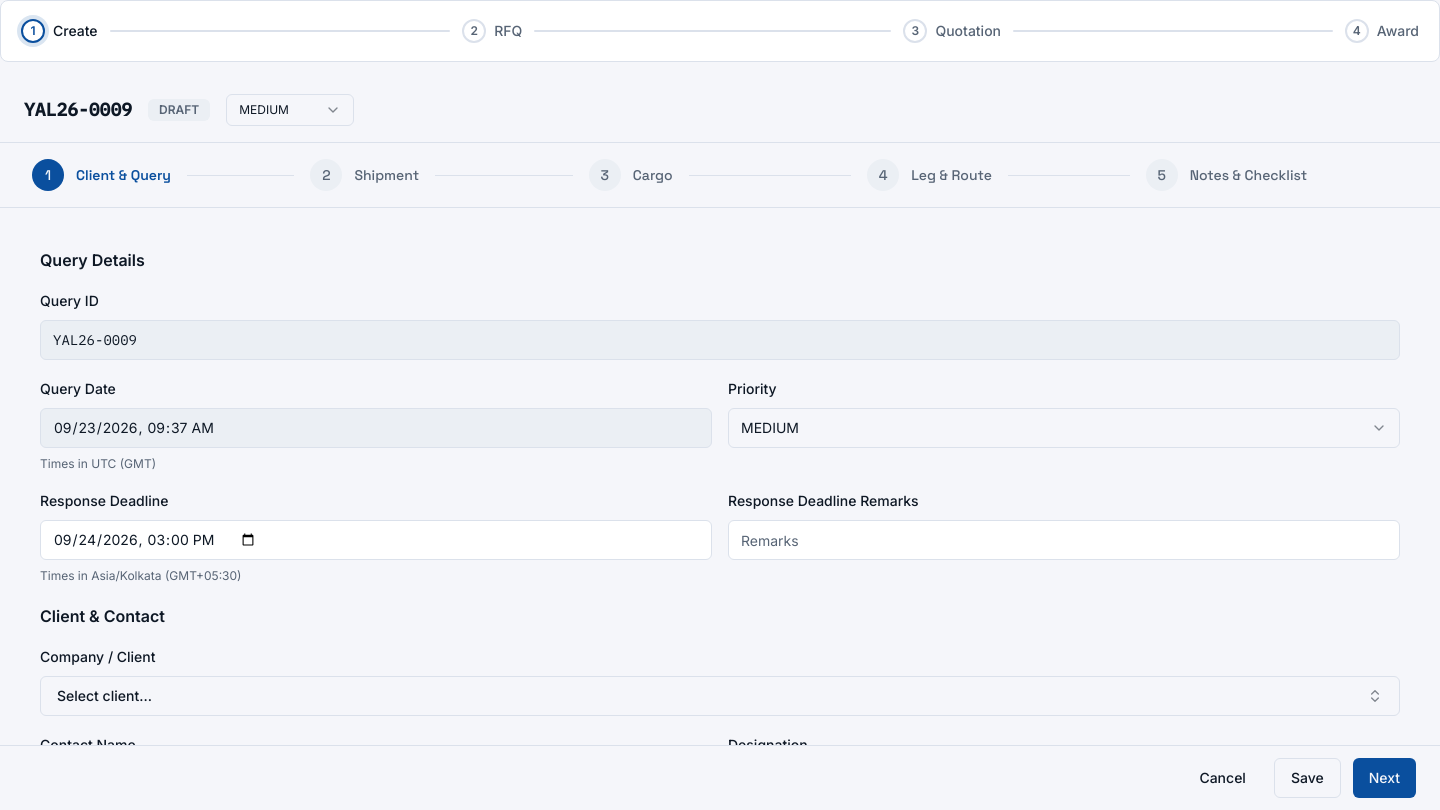
Test: QueryWizardPage › Next advances to Step 2 even when Step-1 mandatory fields are empty (Round-1 Common #5)
This screenshot has width=1440, height=810.
Expected: the text "YAL26-0009" is shown, top-left (24, 98), bottom-right (132, 121)
Click the button "Next" at (1384, 778), box top-left (1353, 758), bottom-right (1416, 798)
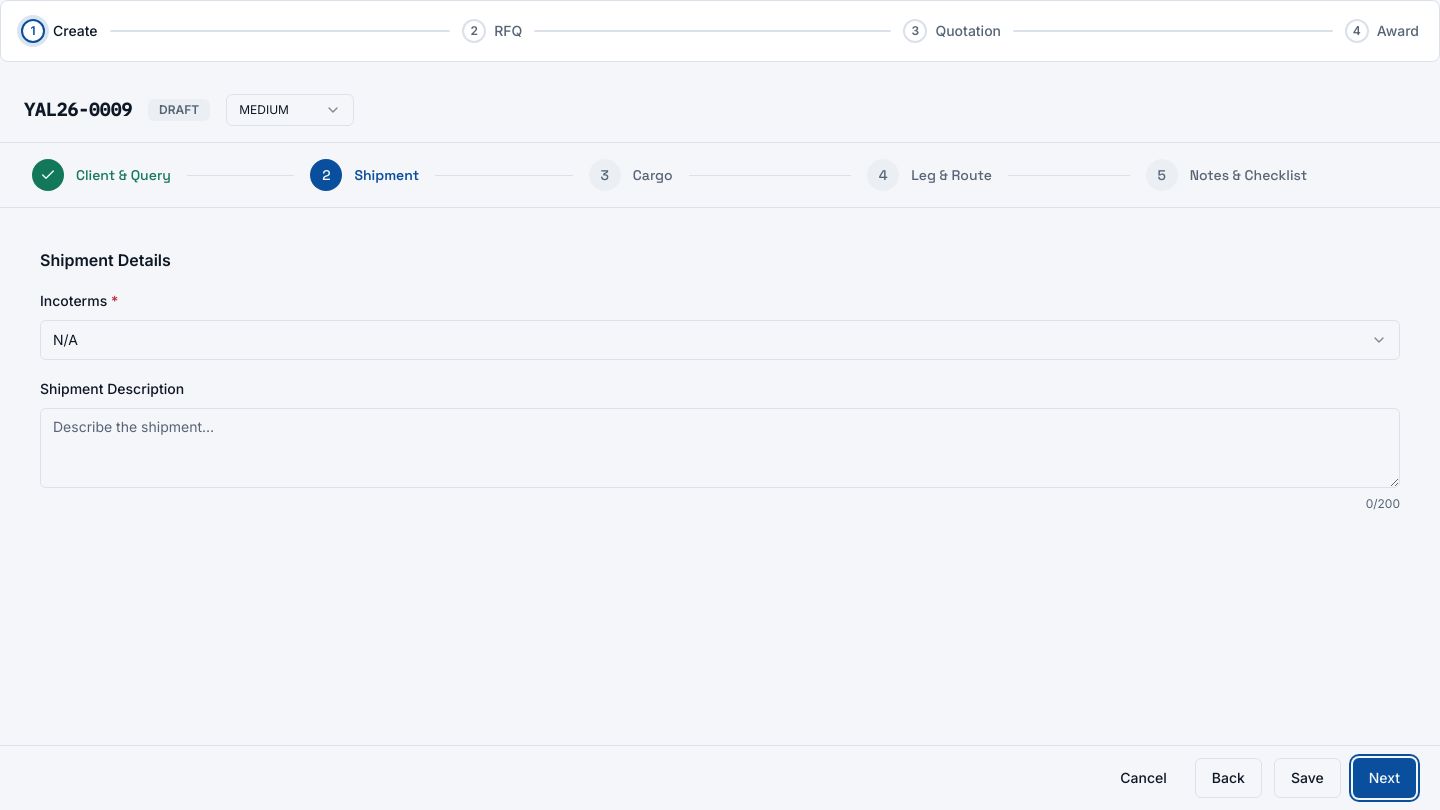
Expected: the heading "Shipment Details" is shown, top-left (40, 250), bottom-right (171, 270)
